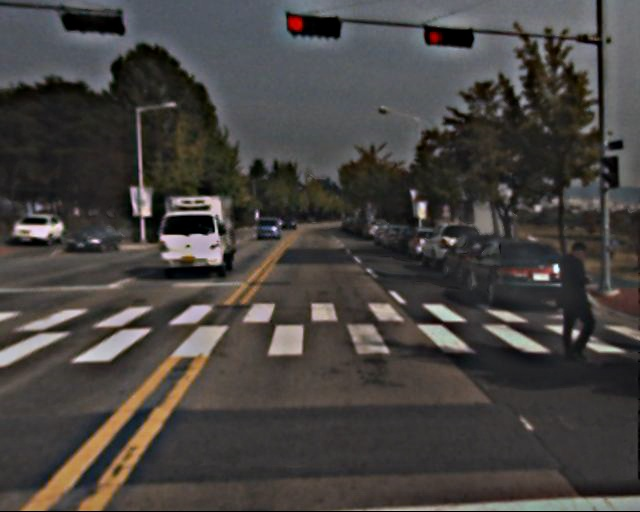person: (544, 237, 601, 370)
